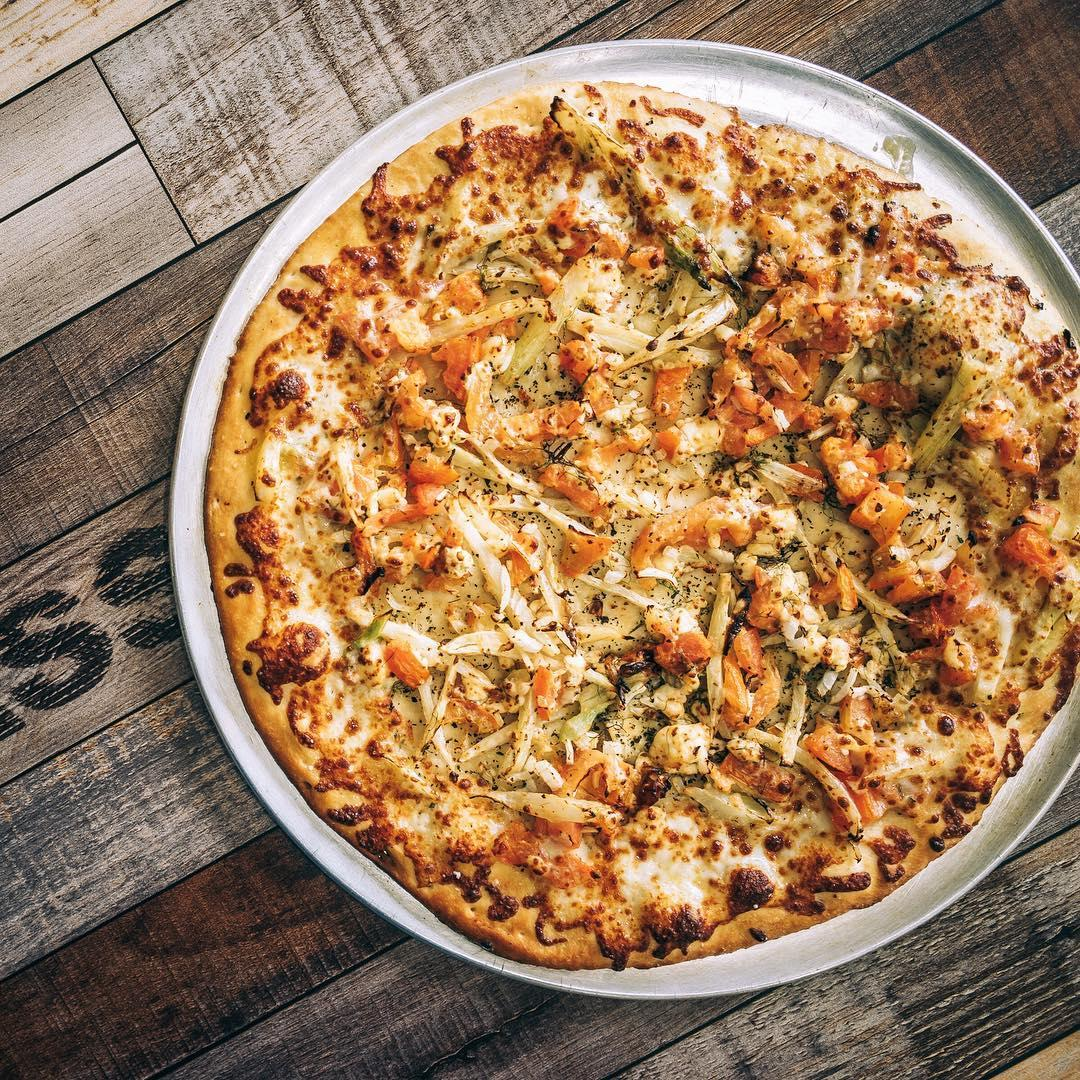Chicken: (816, 410, 916, 546), (629, 494, 775, 581), (652, 398, 826, 465), (752, 278, 893, 356), (713, 319, 827, 399), (427, 315, 520, 401), (715, 625, 787, 733), (383, 433, 462, 528), (799, 687, 878, 776), (1002, 494, 1064, 584), (555, 335, 618, 419), (859, 553, 949, 607), (533, 463, 614, 521), (554, 521, 620, 581), (575, 421, 652, 471), (644, 626, 712, 679), (588, 231, 666, 274), (706, 355, 764, 410), (427, 270, 487, 322), (495, 525, 545, 586), (646, 360, 690, 425), (376, 638, 433, 686), (998, 423, 1045, 481), (960, 399, 1016, 443), (526, 664, 555, 726), (533, 266, 563, 293)
Pizza: (190, 69, 1080, 986)
